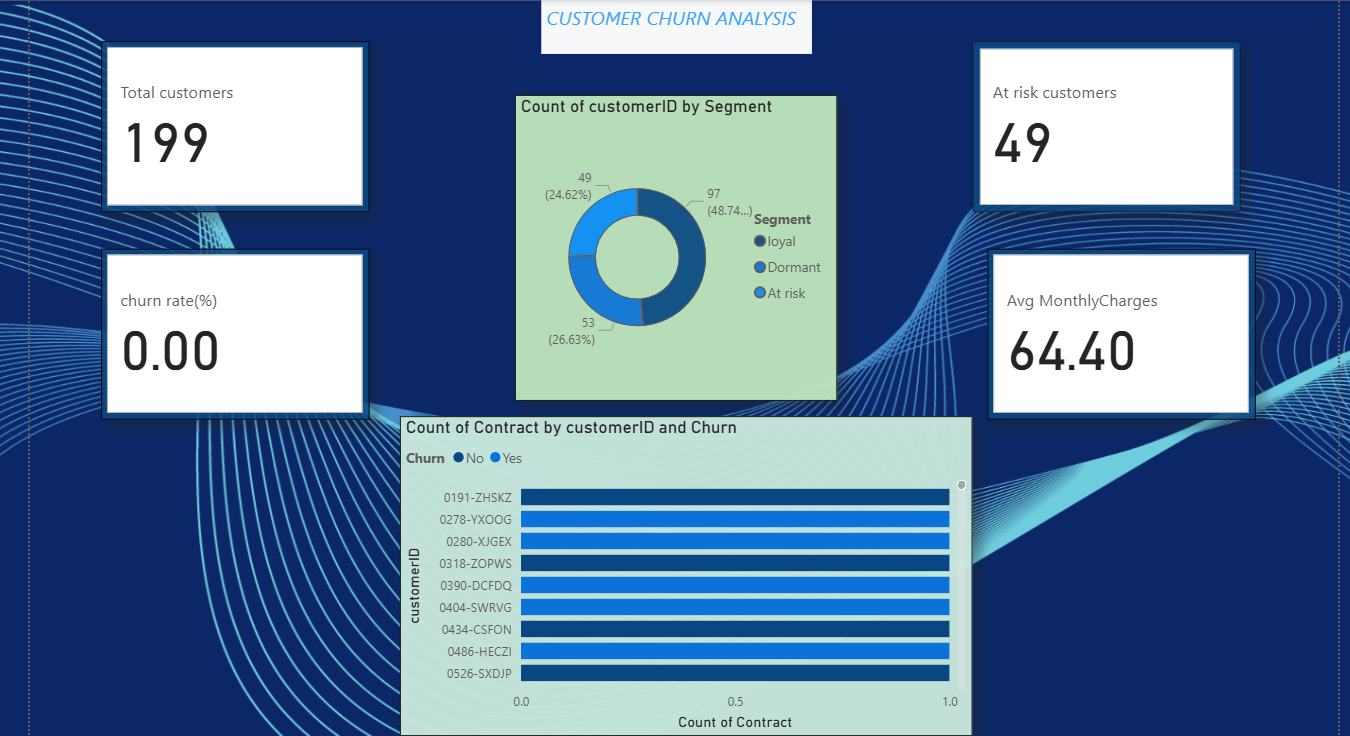

The dashboard page shown, as its layout file describes it:
{"tool":"powerbi","page":{"name":"Page 1","canvas":[1280,720],"ordinal":0},"visuals":[{"type":"cardVisual","fields":{"Data":["telecom_customers.Total customers"]},"box":[70,39.8,262.1,167.4],"z":0},{"type":"cardVisual","fields":{"Data":["telecom_customers.churn rate(%)"]},"box":[70,242.9,262.1,167.4],"z":1000},{"type":"cardVisual","fields":{"Data":["telecom_customers.At risk customers"]},"box":[922.1,39.8,262.1,167.4],"z":2000},{"type":"cardVisual","fields":{"Data":["telecom_customers.Avg MonthlyCharges"]},"box":[937.2,242.9,262.1,167.4],"z":3000},{"type":"donutChart","fields":{"Category":["telecom_customers.Segment"],"Y":["CountNonNull(telecom_customers.customerID)"]},"box":[474,93,315,299],"z":4000},{"type":"barChart","fields":{"Y":["CountNonNull(telecom_customers.Contract)"],"Category":["telecom_customers.customerID"],"Series":["telecom_customers.Churn"]},"box":[362.3,407.5,559.9,312.9],"z":5000},{"type":"textbox","box":[500,0,265,53],"z":5001}]}

Visuals, with their boxes in screenshot pixels (x1, y1, x2, y2):
cardVisual - telecom_customers.Total customers: left=106, top=40, right=369, bottom=209
cardVisual - telecom_customers.churn rate(%): left=106, top=244, right=369, bottom=413
cardVisual - telecom_customers.At risk customers: left=963, top=40, right=1227, bottom=209
cardVisual - telecom_customers.Avg MonthlyCharges: left=978, top=244, right=1242, bottom=413
donutChart - telecom_customers.Segment x CountNonNull(telecom_customers.customerID): left=512, top=94, right=829, bottom=395
barChart - CountNonNull(telecom_customers.Contract) x telecom_customers.customerID: left=400, top=410, right=963, bottom=725
textbox: left=538, top=0, right=805, bottom=53
